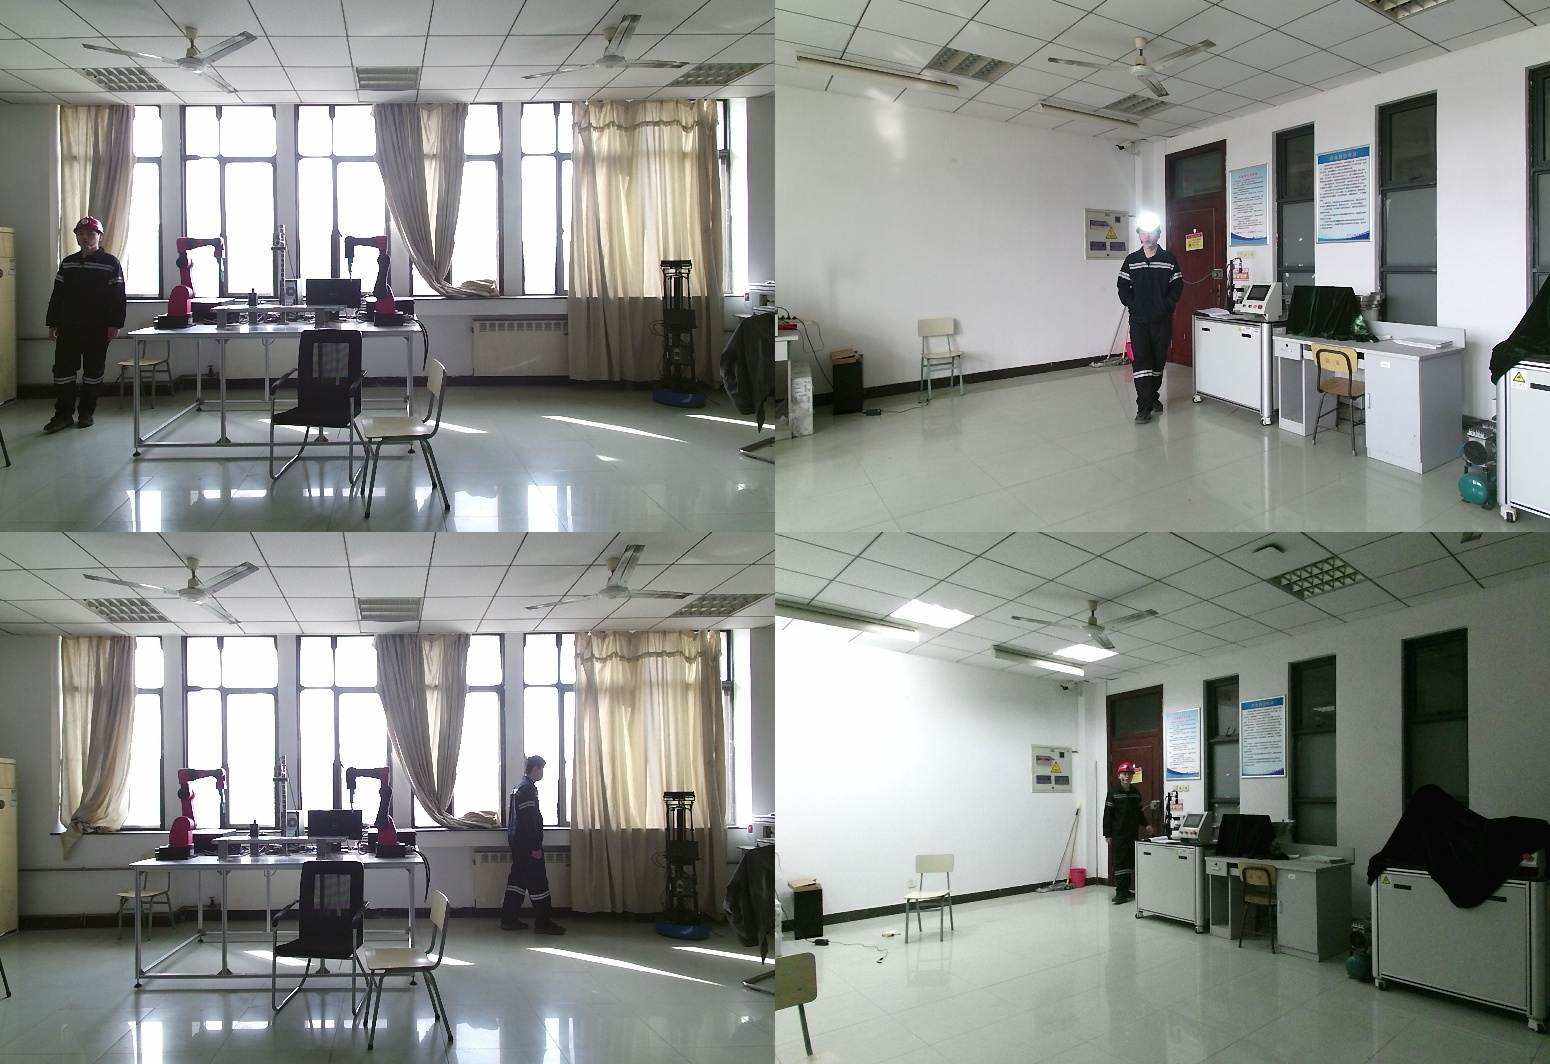person: (40, 215, 127, 433), (1114, 221, 1189, 429), (503, 757, 570, 943), (1100, 760, 1145, 906)
